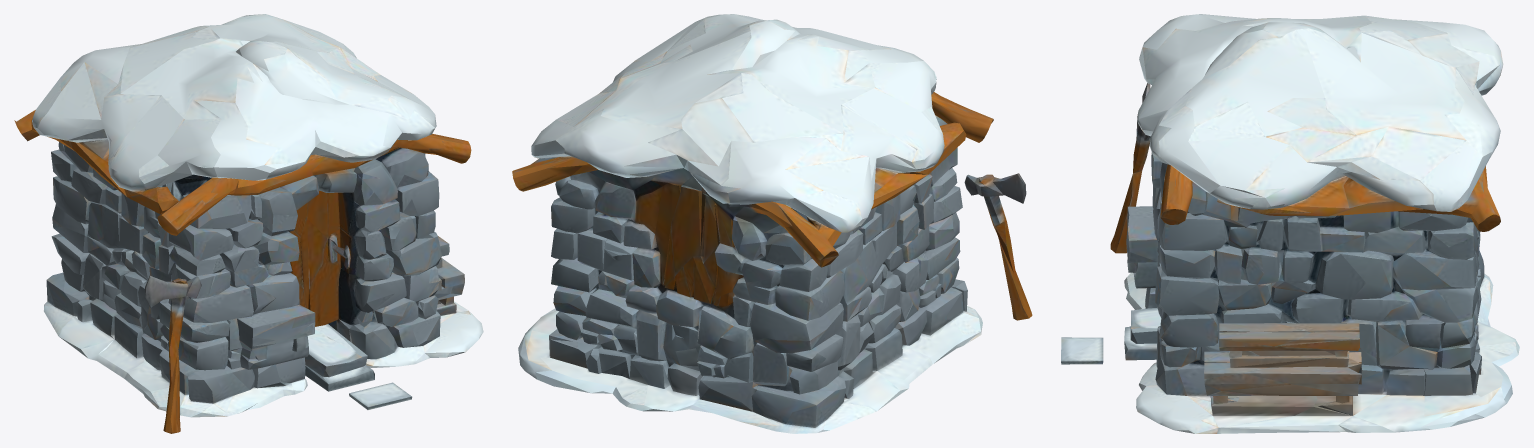
The model's file is quarry_lodge.glb.
The picture shows the model from 3 angles, left to right: view 1: azimuth 30°, elevation 25°; view 2: azimuth 150°, elevation 25°; view 3: azimuth 270°, elevation 25°; orthographic projection. The views are drawn at different scales.
Size of the model in its own units: 1.71 by 1.32 by 1.73.
Materials: 1 (1 with a texture image).
